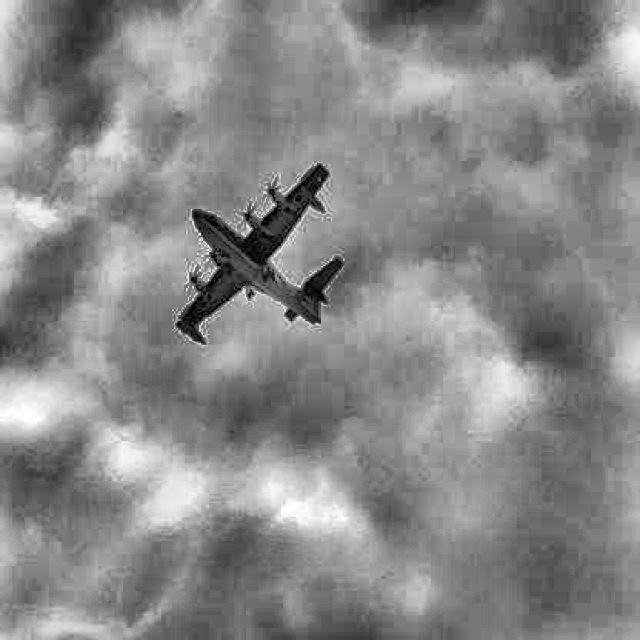US2: (174, 162, 343, 346)
